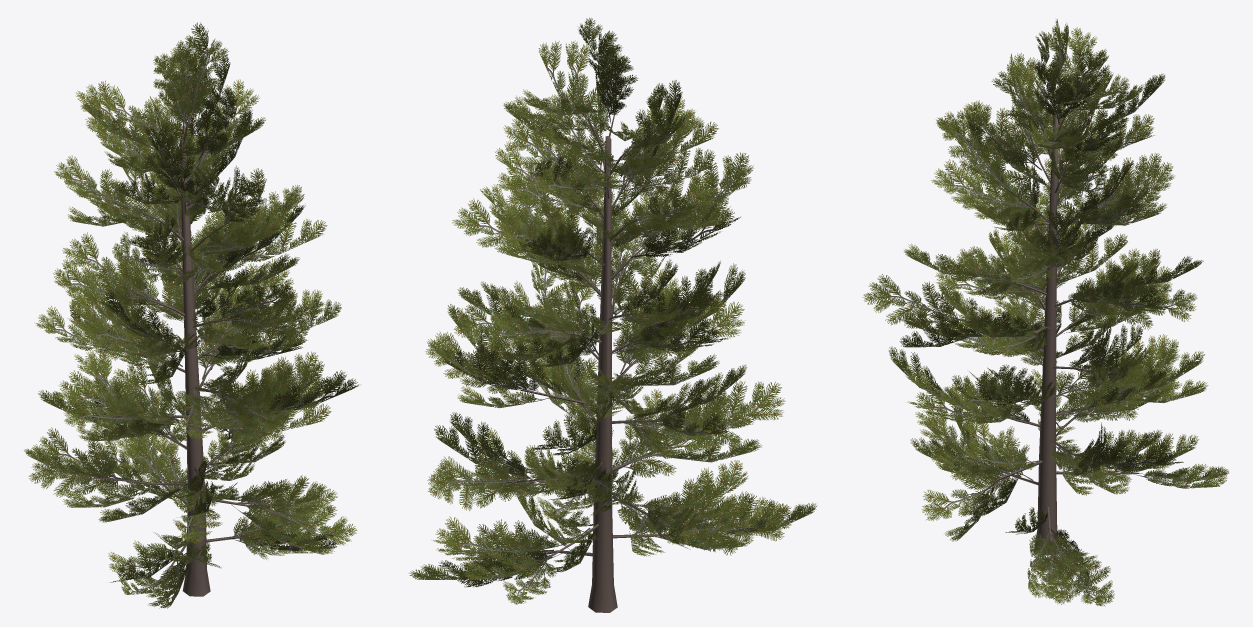
File: NewTreeL2.fbx
3 renders of one model, left to right at view 1: azimuth 30°, elevation 25°; view 2: azimuth 150°, elevation 25°; view 3: azimuth 270°, elevation 25°, orthographic. The views are drawn at different scales.
Parts seen in each view (by area): view 1: pine_tree_v2_branches_LOD_2_Circle.038; view 2: pine_tree_v2_branches_LOD_2_Circle.038; view 3: pine_tree_v2_branches_LOD_2_Circle.038.
Part boxes in pixels (x1,y1,x2,y2): pine_tree_v2_branches_LOD_2_Circle.038: [24, 22, 358, 608]; pine_tree_v2_branches_LOD_2_Circle.038: [409, 17, 817, 612]; pine_tree_v2_branches_LOD_2_Circle.038: [862, 19, 1228, 606].
Bounding box in the file's own units: 569 × 1001 × 650.
